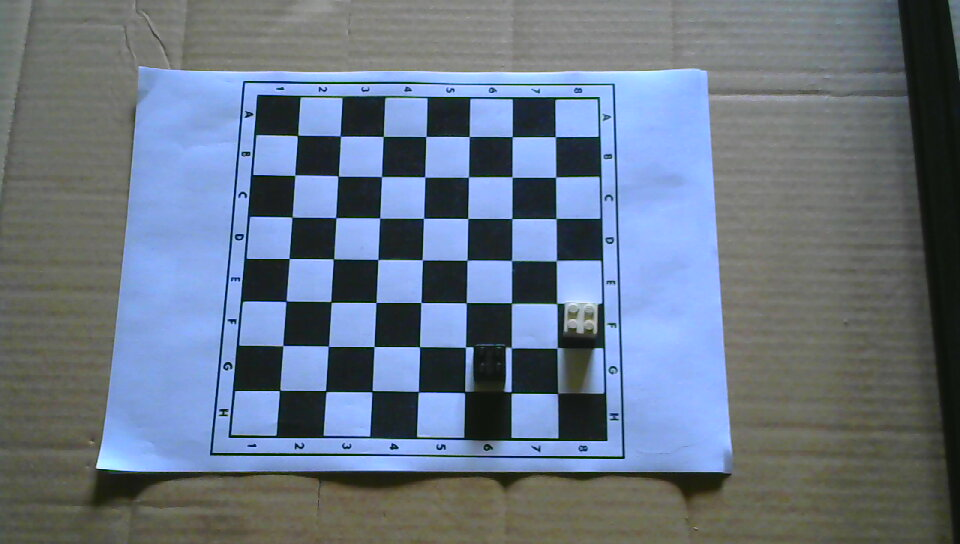bp: (472, 342, 508, 382)
wp: (562, 300, 599, 338)
